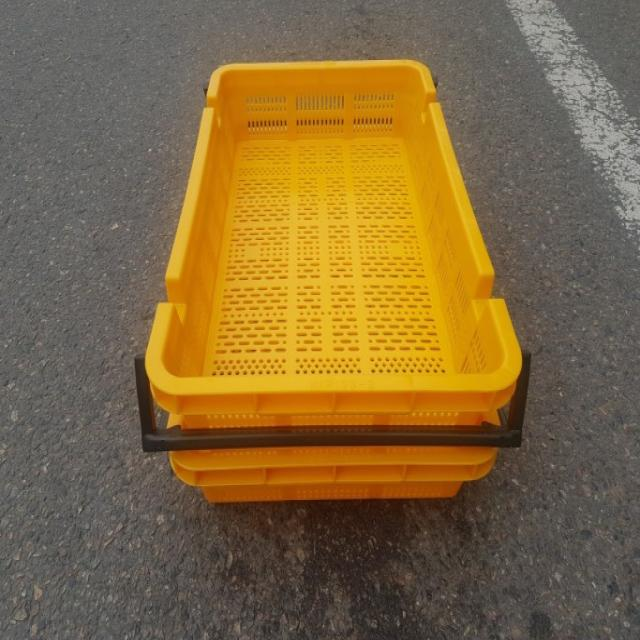basket: (139, 63, 530, 504)
